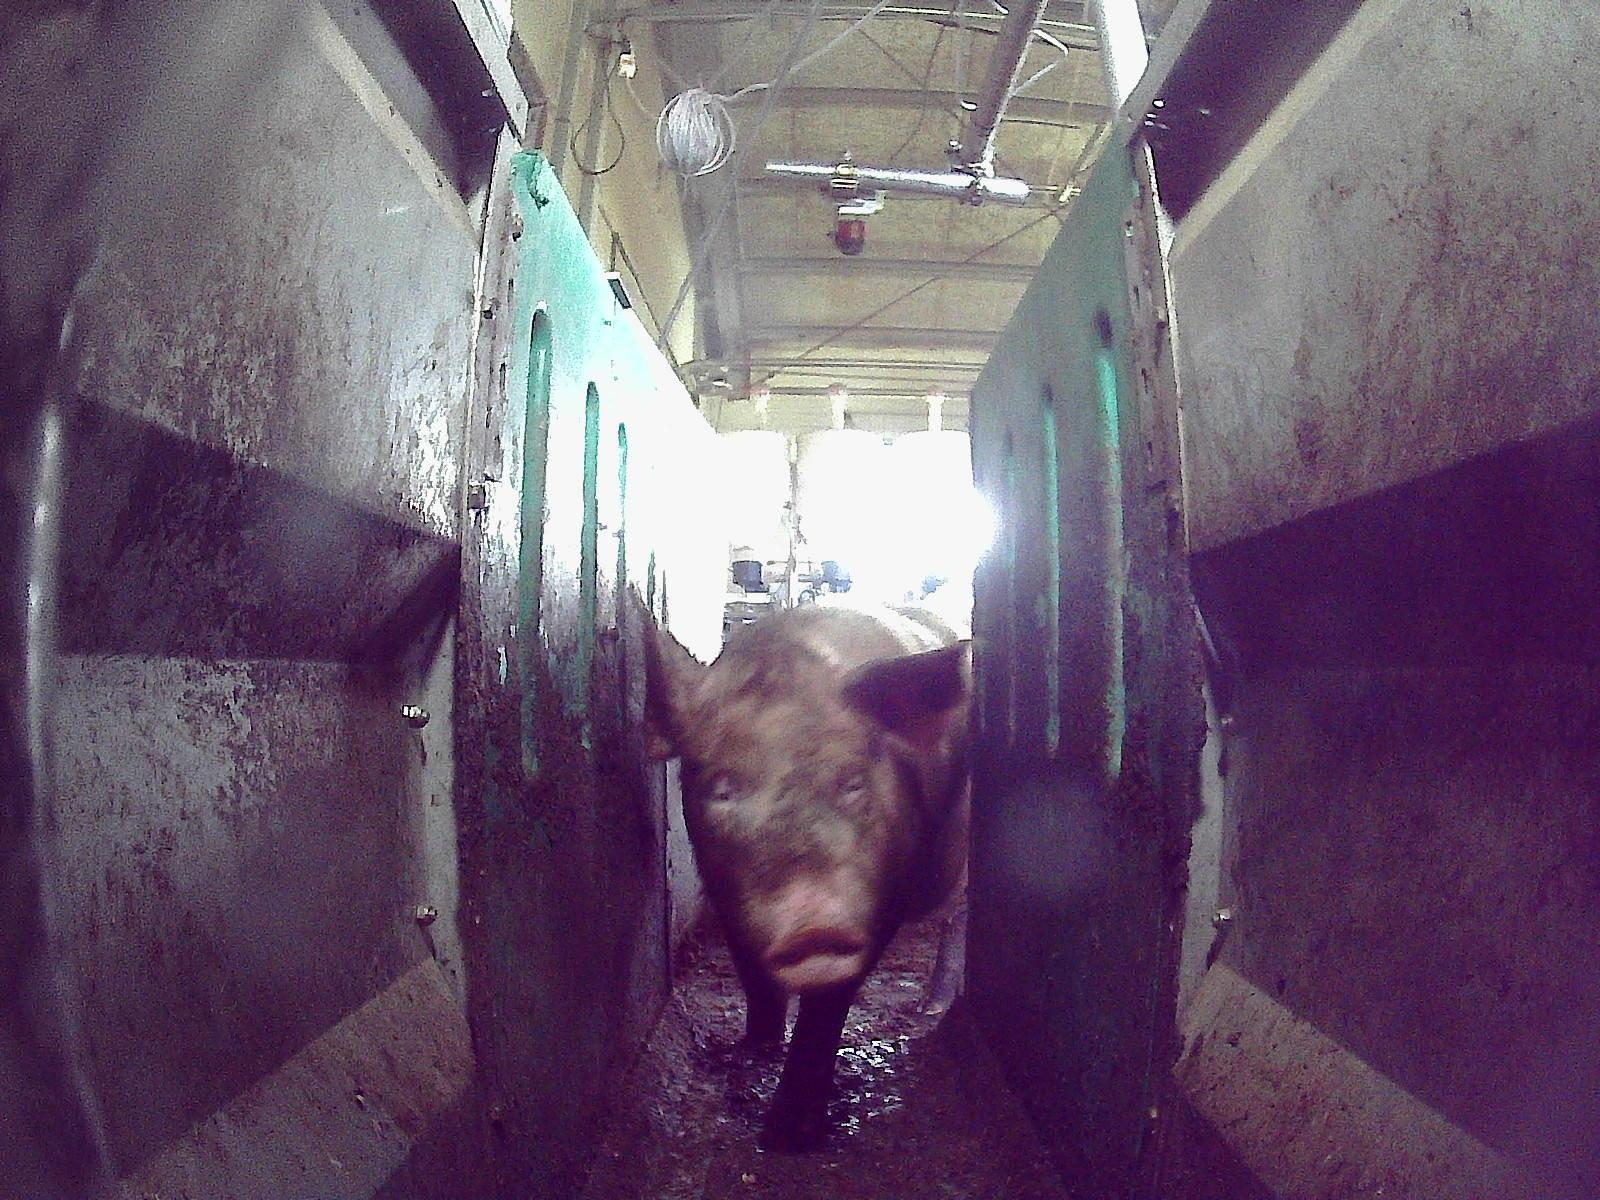Face: (673, 697, 895, 986)
